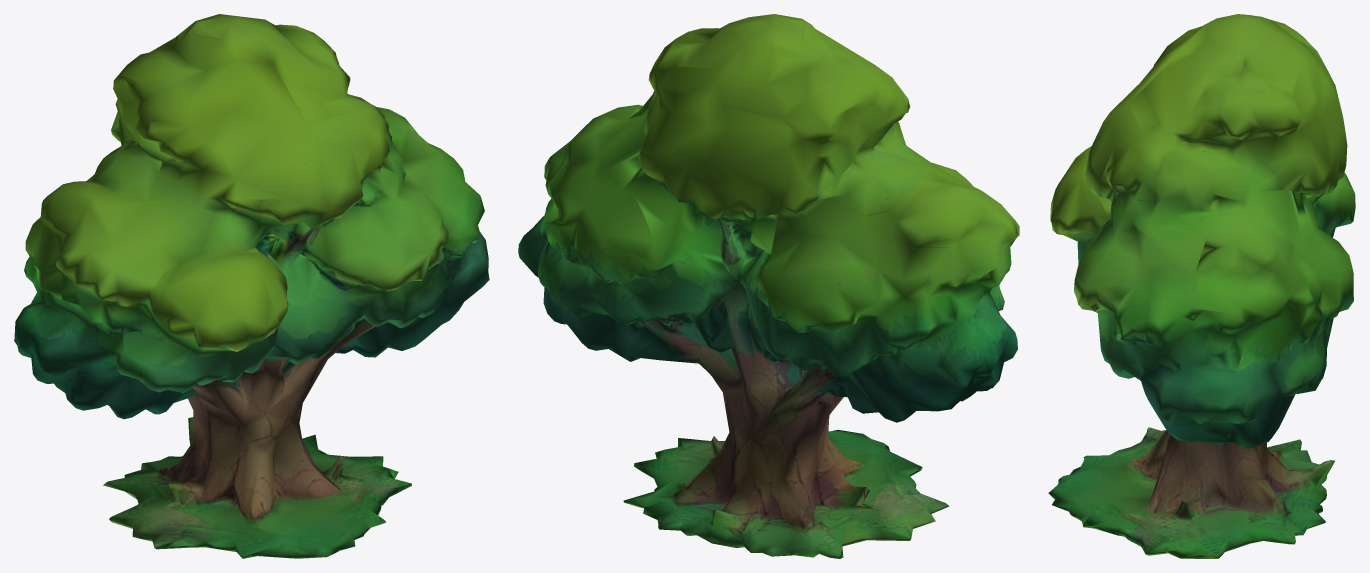
File: treeA02.fbx
The picture shows the model from 3 angles, left to right: view 1: azimuth 30°, elevation 25°; view 2: azimuth 150°, elevation 25°; view 3: azimuth 270°, elevation 25°; orthographic projection. The views are drawn at different scales.
Visible parts, largest first — view 1: treeA02; view 2: treeA02; view 3: treeA02.
Part boxes in pixels (bbox=[...]): treeA02: bbox=[14, 14, 489, 558]; treeA02: bbox=[518, 14, 1019, 558]; treeA02: bbox=[1048, 14, 1355, 558].
Bounding box in the file's own units: 150 × 150 × 88.01.
Materials: 1 (1 with a texture image).
